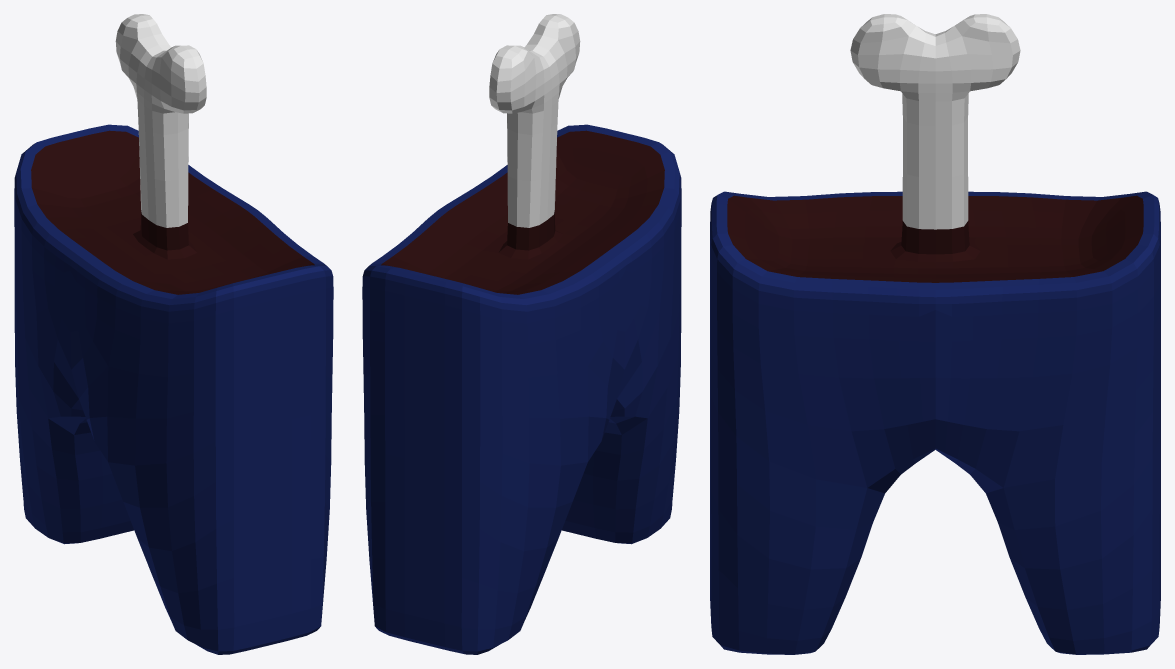
Rendered from dead-crewmate.fbx.
The picture shows the model from 3 angles, left to right: view 1: azimuth 30°, elevation 25°; view 2: azimuth 150°, elevation 25°; view 3: azimuth 270°, elevation 25°; orthographic projection. The views are drawn at different scales.
Visible parts, largest first — view 1: Dead-Crewmate; view 2: Dead-Crewmate; view 3: Dead-Crewmate.
Part boxes in pixels (left/top/right/bottom): Dead-Crewmate: left=14, top=14, right=333, bottom=654; Dead-Crewmate: left=362, top=14, right=681, bottom=654; Dead-Crewmate: left=710, top=14, right=1160, bottom=654.
Size of the model in its own units: 94.02 by 252 by 170.
